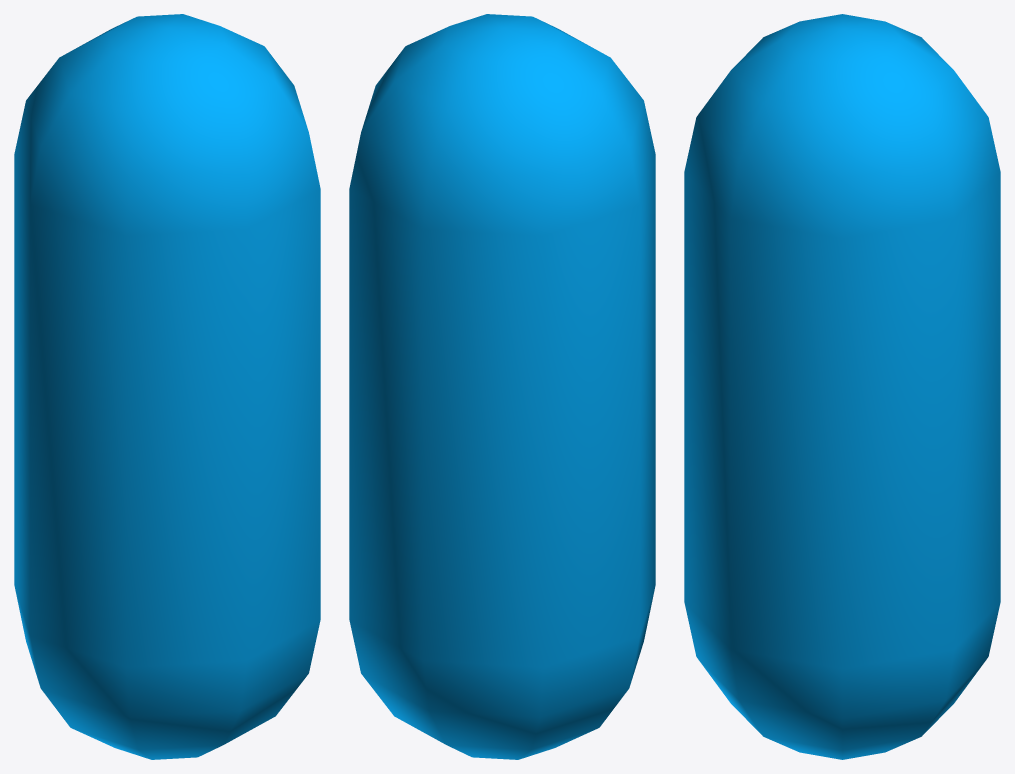
File: piluleBleue.FBX
The picture shows the model from 3 angles, left to right: view 1: azimuth 30°, elevation 25°; view 2: azimuth 150°, elevation 25°; view 3: azimuth 270°, elevation 25°; orthographic projection.
Visible parts, largest first — view 1: piluleBleue; view 2: piluleBleue; view 3: piluleBleue.
Part boxes in pixels (left/top/right/bottom): piluleBleue: left=14, top=14, right=320, bottom=759; piluleBleue: left=349, top=14, right=655, bottom=759; piluleBleue: left=684, top=14, right=1000, bottom=759.
Bounding box in the file's own units: 7.87 × 19.69 × 7.87.
